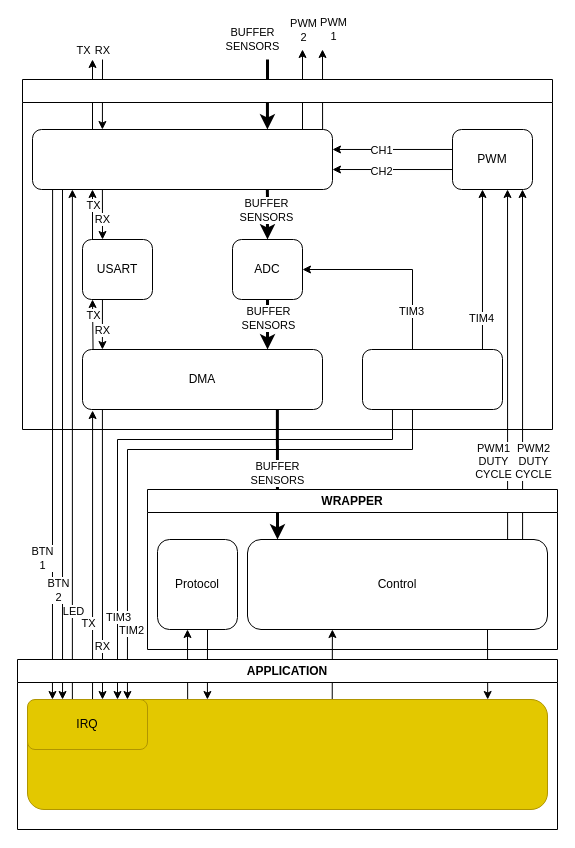
Image size: 575x848. Some labels were removed from this diagram. The shapes that lost their labels are listed below. From the top down, each one's box as (x1, y1, x2, y2) in pixels, then its label:
(32, 128, 332, 190): GPIO
(22, 78, 552, 430): DRIVERS
(362, 348, 502, 410): TIM
(26, 698, 548, 810): MAIN
